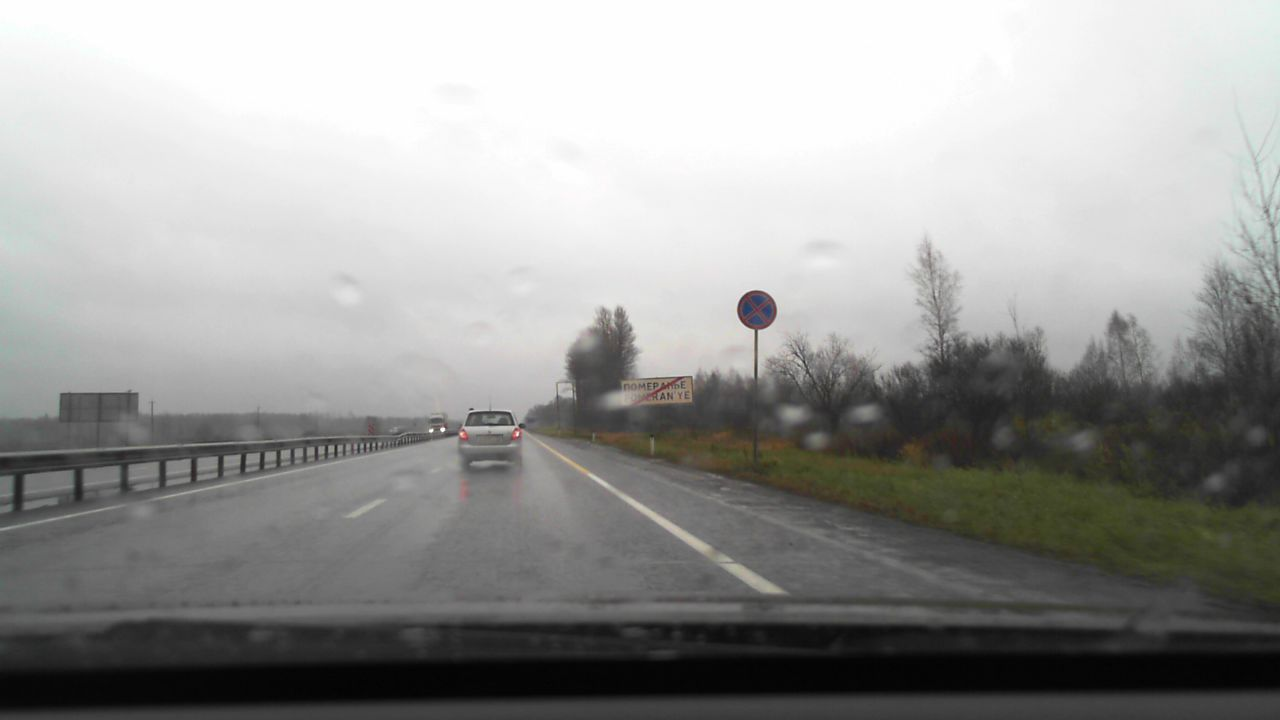No Parking: (737, 289, 777, 330)
